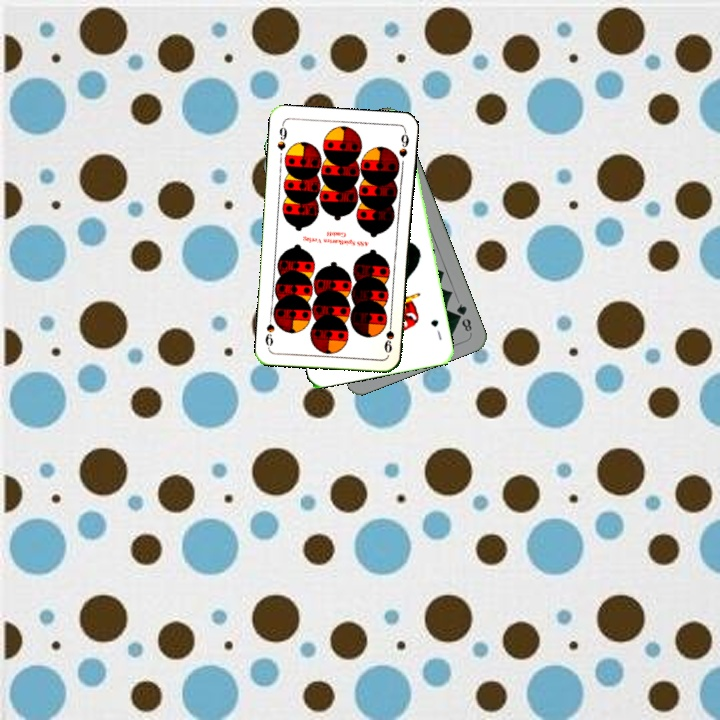G8: (452, 299, 475, 334)
GU: (426, 315, 444, 343)
S9: (380, 316, 397, 355), (273, 120, 290, 153)
